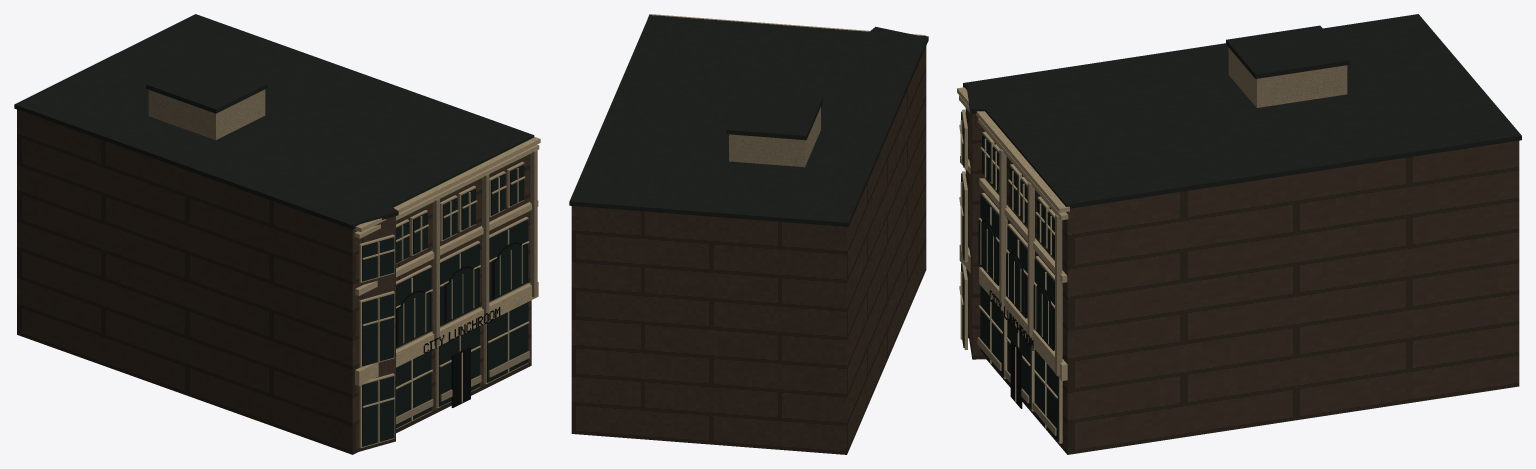
3 renders of one model, left to right at view 1: azimuth 30°, elevation 25°; view 2: azimuth 150°, elevation 25°; view 3: azimuth 270°, elevation 25°, orthographic. The views are drawn at different scales.
Visible parts, largest first — view 1: heck-city-noordblaak-0, heck-city-noordblaak-1, heck-city-noordblaak-4, heck-city-noordblaak-5, heck-city-noordblaak-2, heck-city-noordblaak-3; view 2: heck-city-noordblaak-0, heck-city-noordblaak-1, heck-city-noordblaak-2, heck-city-noordblaak-5; view 3: heck-city-noordblaak-0, heck-city-noordblaak-1, heck-city-noordblaak-4, heck-city-noordblaak-5, heck-city-noordblaak-2, heck-city-noordblaak-3.
Boxes of the visible parts, box(x1,y1,x2,y2) form: heck-city-noordblaak-0: box(17, 109, 531, 454); heck-city-noordblaak-1: box(14, 14, 534, 229); heck-city-noordblaak-4: box(362, 164, 528, 446); heck-city-noordblaak-5: box(354, 137, 540, 447); heck-city-noordblaak-2: box(148, 89, 537, 424); heck-city-noordblaak-3: box(396, 242, 527, 407); heck-city-noordblaak-0: box(571, 46, 926, 454); heck-city-noordblaak-1: box(569, 15, 928, 226); heck-city-noordblaak-2: box(729, 107, 820, 167); heck-city-noordblaak-5: box(647, 14, 925, 35); heck-city-noordblaak-0: box(965, 108, 1519, 454); heck-city-noordblaak-1: box(963, 14, 1521, 208); heck-city-noordblaak-4: box(961, 111, 1058, 441); heck-city-noordblaak-5: box(957, 87, 1069, 443); heck-city-noordblaak-2: box(977, 48, 1347, 435); heck-city-noordblaak-3: box(978, 220, 1053, 408).
Bounding box in the file's own units: 22.07 × 15.29 × 27.37.
Materials: 6 (6 with a texture image).
